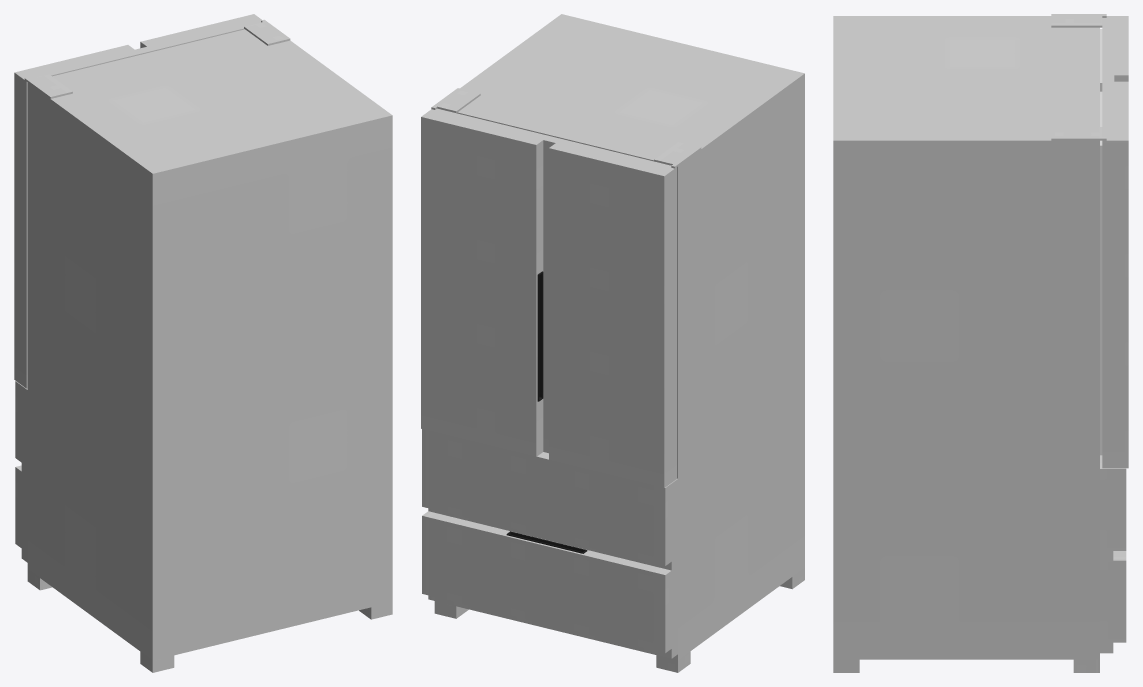
The model's file is Refrigerator04.glb.
3 renders of one model, left to right at view 1: azimuth 30°, elevation 25°; view 2: azimuth 150°, elevation 25°; view 3: azimuth 270°, elevation 25°, orthographic. The views are drawn at different scales.
Parts seen in each view (by area): view 1: Refrigerator04_model, Refrigerator04_Door01, Refrigerator04_Door02, Refrigerator04_Door04, Refrigerator04_Door03; view 2: Refrigerator04_model, Refrigerator04_Door01, Refrigerator04_Door02, Refrigerator04_Door04, Refrigerator04_Door03; view 3: Refrigerator04_model, Refrigerator04_Door02, Refrigerator04_Door04, Refrigerator04_Door03, Refrigerator04_Door01.
Part boxes in pixels (x1,y1,x2,y2): Refrigerator04_model: (24,19,392,672); Refrigerator04_Door01: (14,45,146,388); Refrigerator04_Door02: (140,14,261,52); Refrigerator04_Door04: (15,465,27,562); Refrigerator04_Door03: (15,381,27,476); Refrigerator04_model: (431,14,804,672); Refrigerator04_Door01: (549,137,676,487); Refrigerator04_Door02: (421,108,554,456); Refrigerator04_Door04: (422,511,677,658); Refrigerator04_Door03: (422,429,677,571); Refrigerator04_model: (833,14,1106,672); Refrigerator04_Door02: (1100,78,1128,468); Refrigerator04_Door04: (1100,551,1126,653); Refrigerator04_Door03: (1100,455,1126,561); Refrigerator04_Door01: (1100,16,1128,91).
Size of the model in its own units: 2.04 by 4.08 by 2.04.
1 material, 1 textured.
